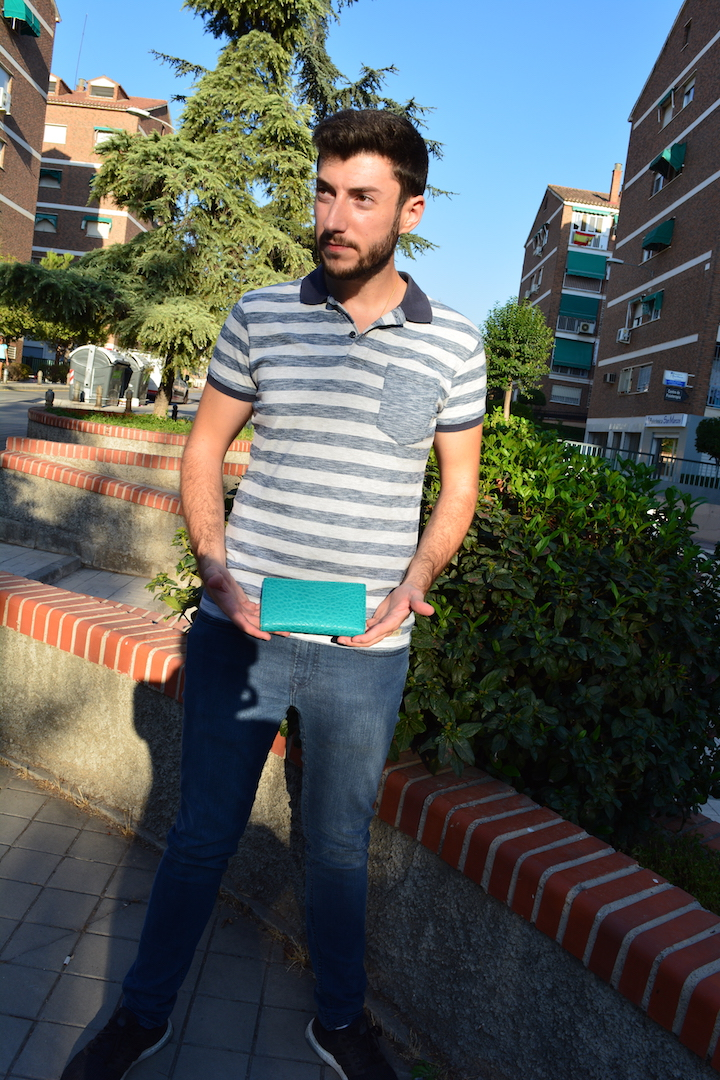monedero: (258, 573, 371, 640)
